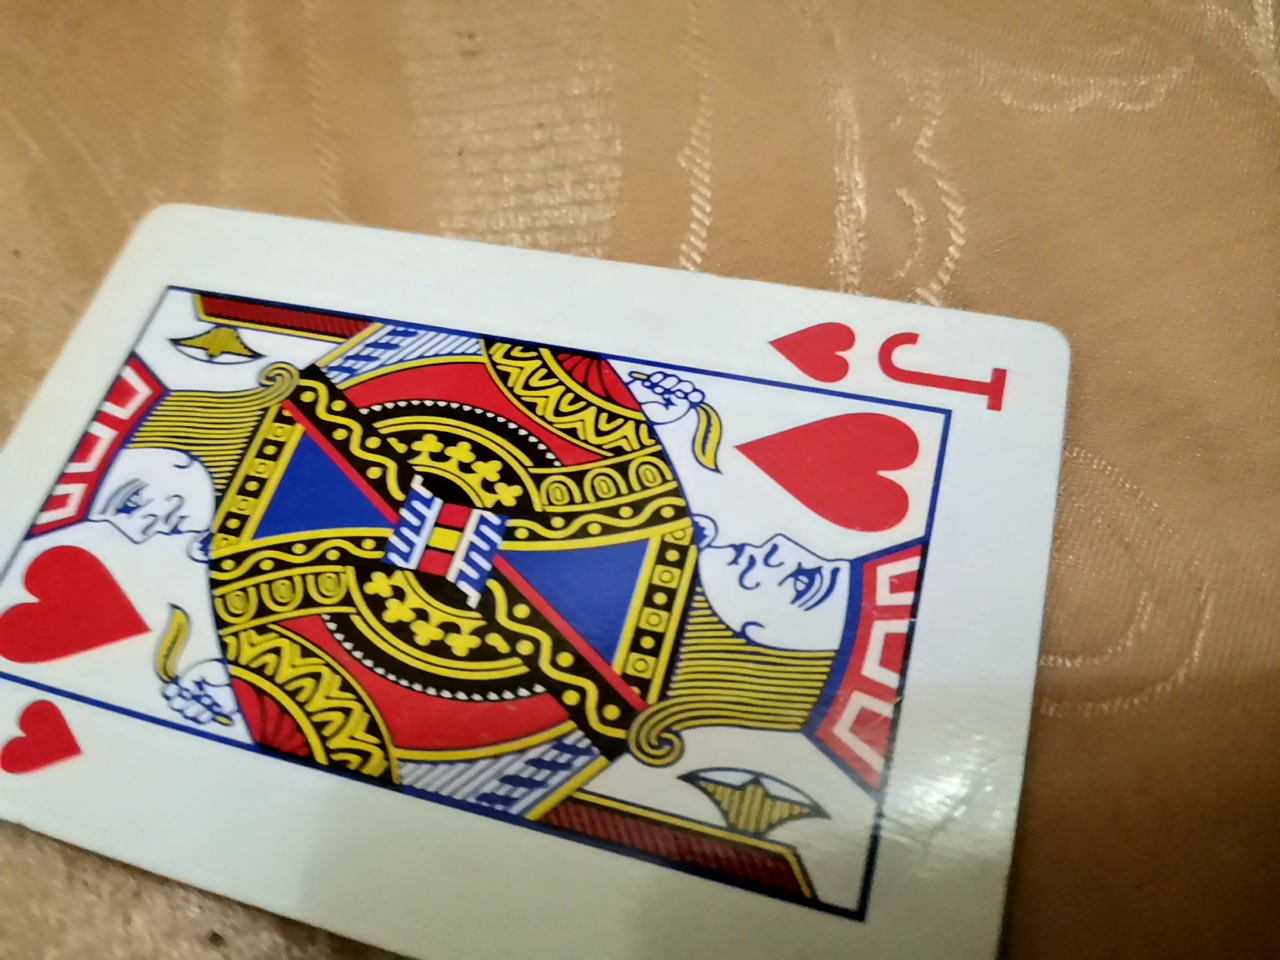hx j: (0, 195, 1100, 952)
